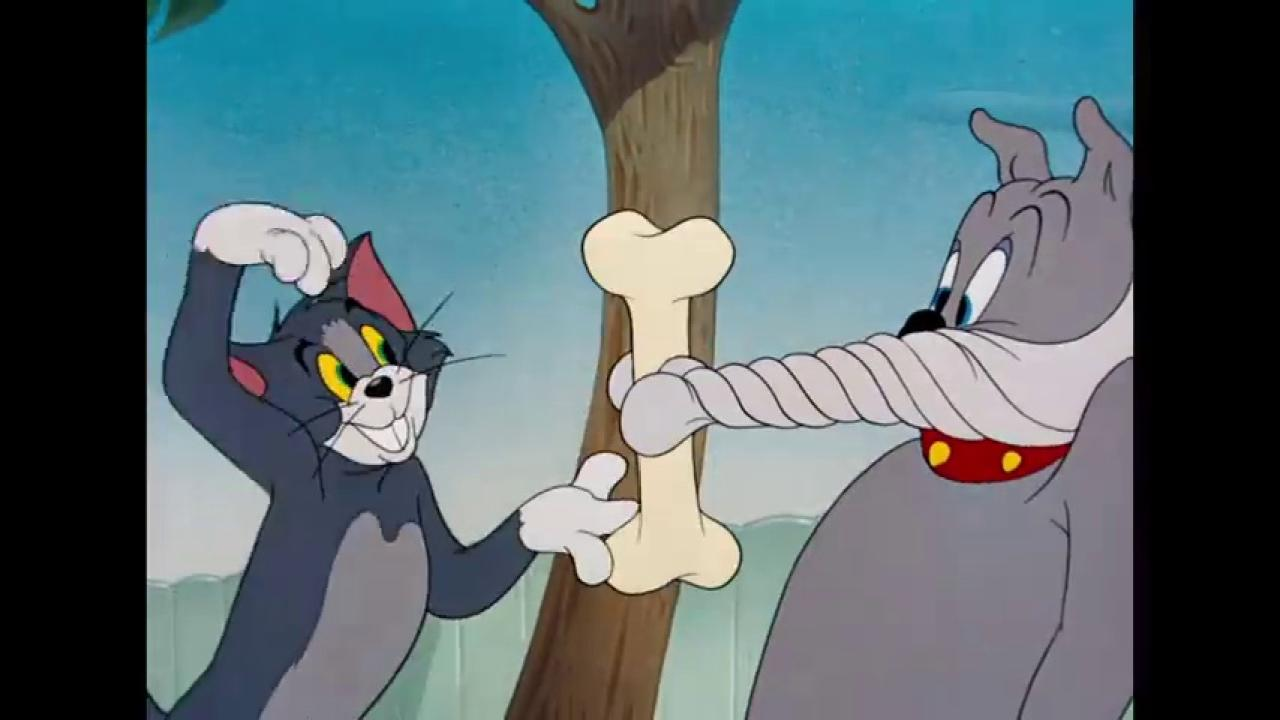Tom: (149, 199, 639, 720)
